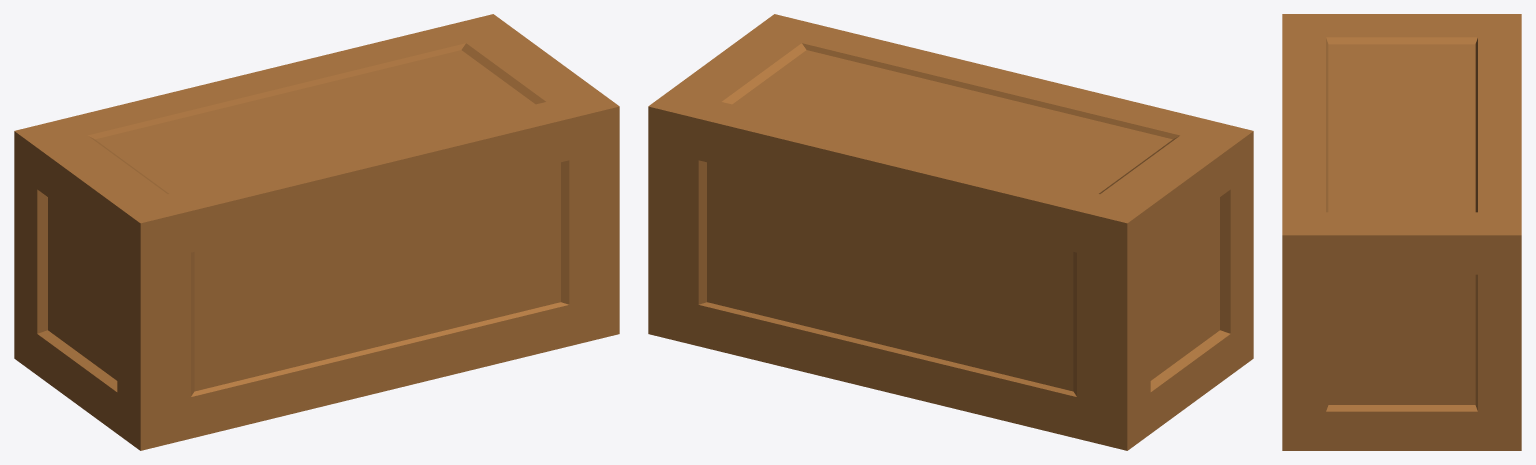
Rendered from Wooden Box 1.fbx.
3 views of the same model, side by side, from view 1: azimuth 30°, elevation 25°; view 2: azimuth 150°, elevation 25°; view 3: azimuth 270°, elevation 25° (orthographic). The views are drawn at different scales.
Parts seen in each view (by area): view 1: Box1; view 2: Box1; view 3: Box1.
Part boxes in pixels (box(x1,y1,x2,y2)): Box1: box(14, 14, 619, 450); Box1: box(648, 14, 1253, 450); Box1: box(1282, 14, 1521, 450).
Size of the model in its own units: 322 by 146 by 147.
